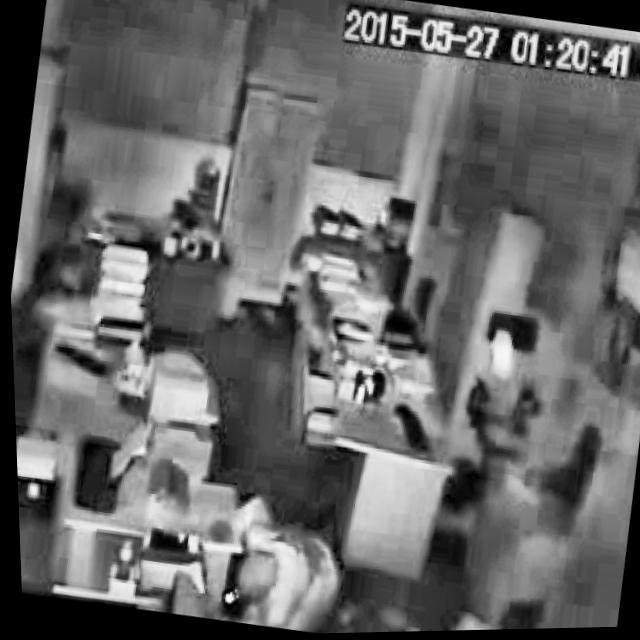burglary: (181, 487, 353, 637)
